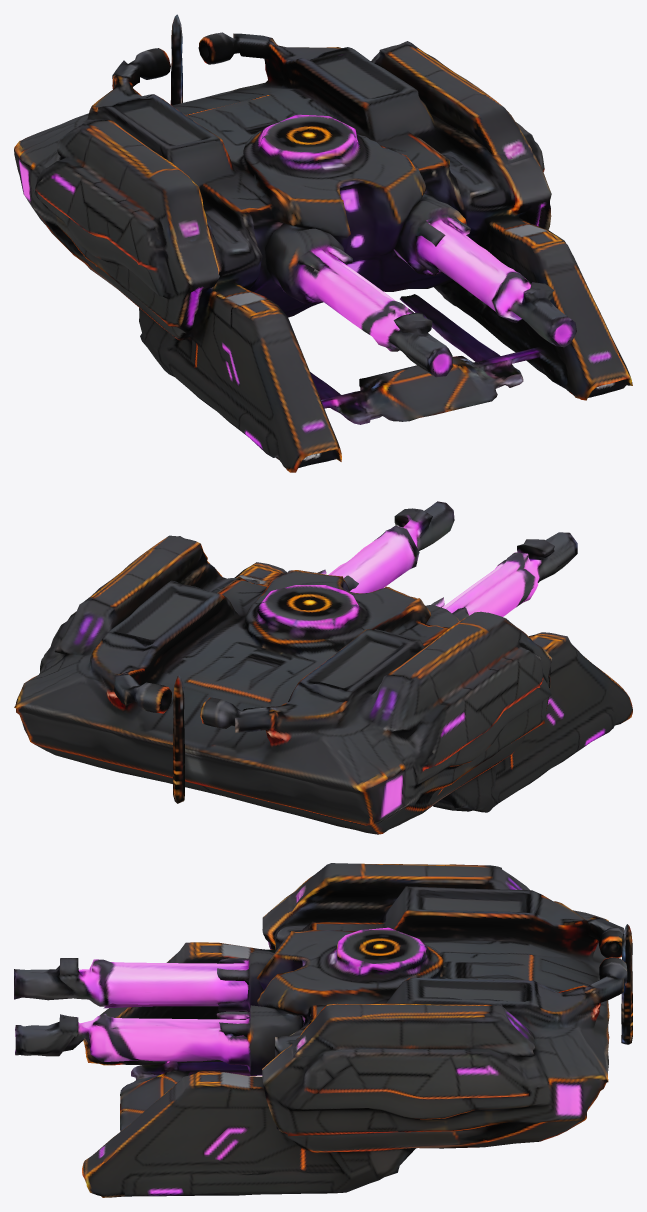
Rendered from base_basic_shaded.fbx.
3 renders of one model, top to bottom at view 1: azimuth 30°, elevation 25°; view 2: azimuth 150°, elevation 25°; view 3: azimuth 270°, elevation 25°, orthographic. The views are drawn at different scales.
Visible parts, largest first — view 1: root.0, root.2, root.1, root.3; view 2: root.0, root.3, root.2, root.1; view 3: root.0, root.1, root.2, root.3.
Boxes of the visible parts, x1,y1,x2,y2 form: root.0: (14,14,632,472); root.2: (265,223,452,377); root.1: (393,193,576,347); root.3: (371,41,533,163); root.0: (14,561,632,834); root.3: (54,535,207,655); root.2: (425,532,577,627); root.1: (317,501,454,593); root.0: (82,863,632,1197); root.1: (15,1005,302,1075); root.2: (14,951,274,1012); root.3: (292,1003,535,1057).
Size of the model in its own units: 126 by 63.24 by 179.
